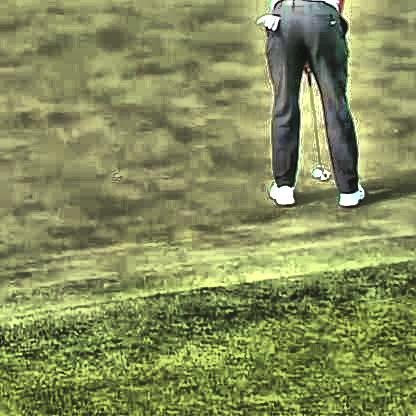golfball: (309, 166, 319, 176)
